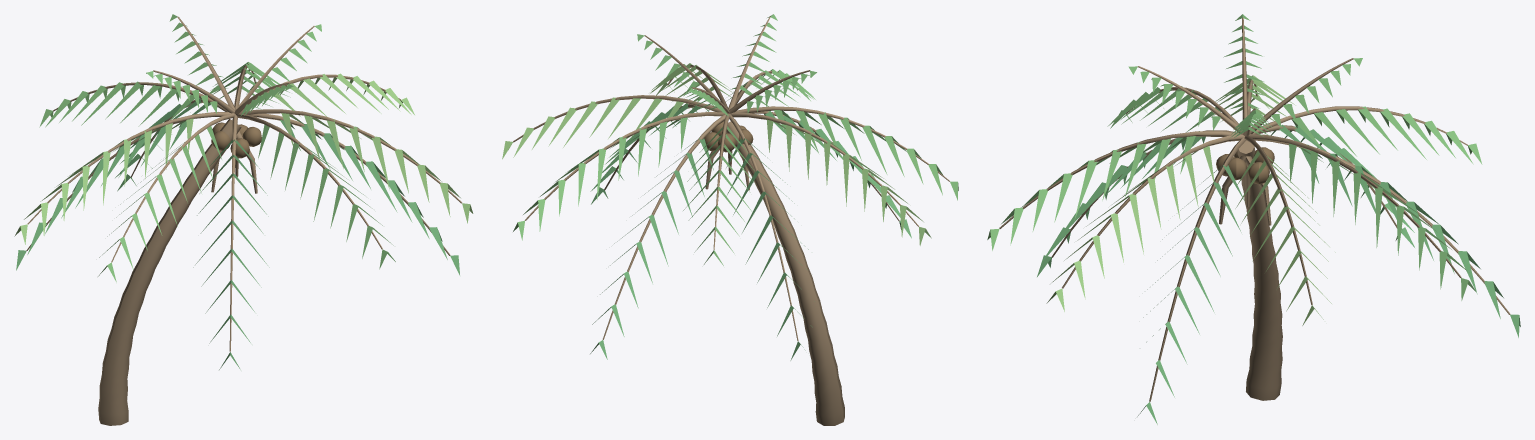
File: palme_6.glb
3 views of the same model, side by side, from view 1: azimuth 30°, elevation 25°; view 2: azimuth 150°, elevation 25°; view 3: azimuth 270°, elevation 25° (orthographic). The views are drawn at different scales.
Parts seen in each view (by area): view 1: G_palme_6; view 2: G_palme_6; view 3: G_palme_6.
Part boxes in pixels (<box>): G_palme_6: <box>14,14,473,425</box>; G_palme_6: <box>502,14,958,425</box>; G_palme_6: <box>987,14,1520,424</box>.
Size of the model in its own units: 9.47 by 7.64 by 9.37.
